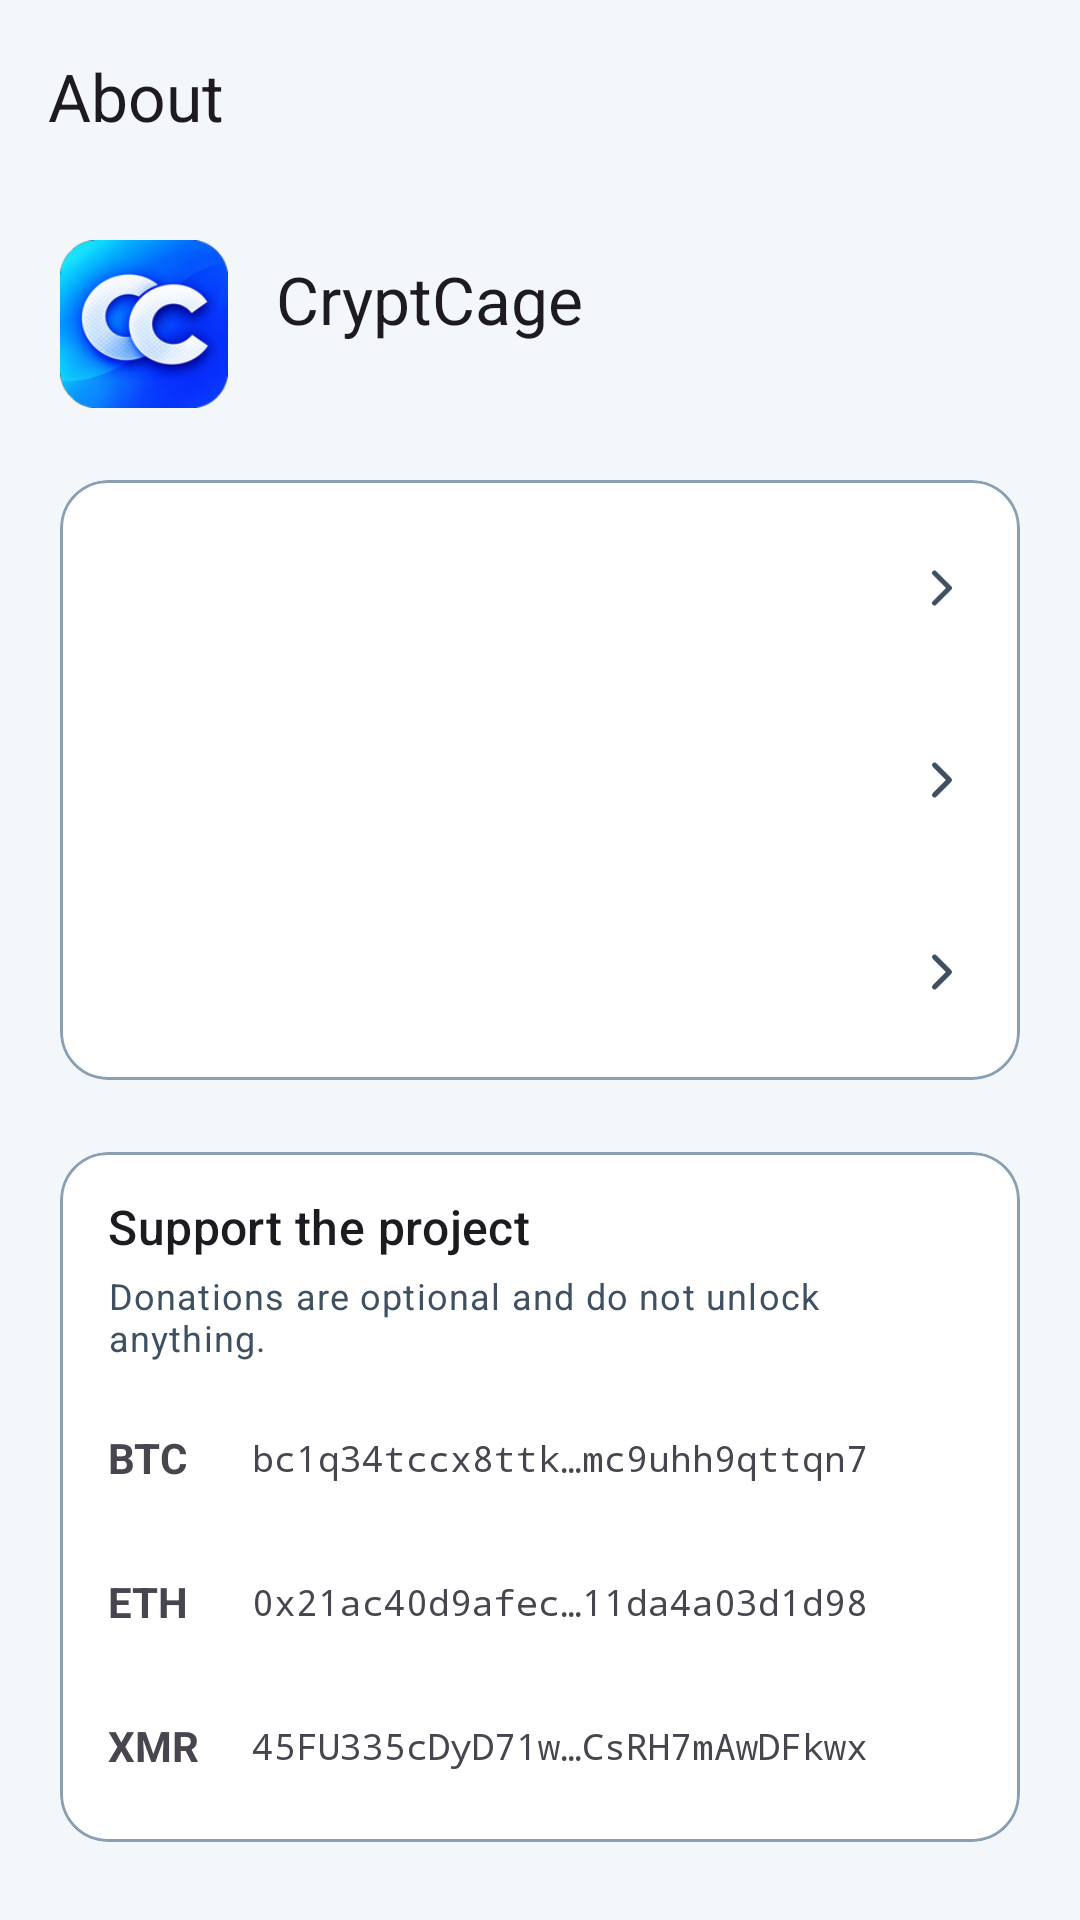

Icons on this 1080 x 1920 Android screen, each with its box as region(x1, y1, x2, y2):
chevron right: region(932, 570, 952, 606), region(932, 762, 952, 798), region(932, 954, 952, 990)
